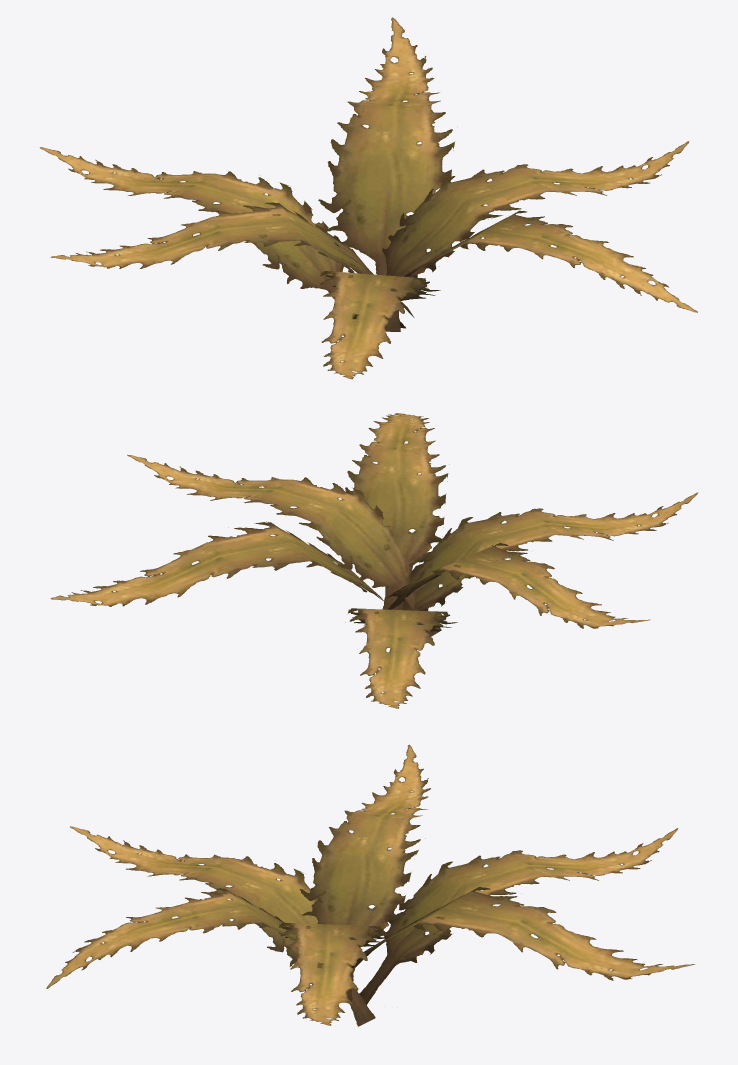
File: yw_shamo_zhibei_003.FBX
The picture shows the model from 3 angles, top to bottom: view 1: azimuth 30°, elevation 25°; view 2: azimuth 150°, elevation 25°; view 3: azimuth 270°, elevation 25°; orthographic projection. The views are drawn at different scales.
Visible parts, largest first — view 1: yw_shamo_zhibei_003; view 2: yw_shamo_zhibei_003; view 3: yw_shamo_zhibei_003.
Boxes of the visible parts, x1,y1,x2,y2 form: yw_shamo_zhibei_003: (39, 17, 697, 379); yw_shamo_zhibei_003: (50, 413, 698, 708); yw_shamo_zhibei_003: (46, 744, 694, 1026).
Bounding box in the file's own units: 60.6 × 63.04 × 14.16.
